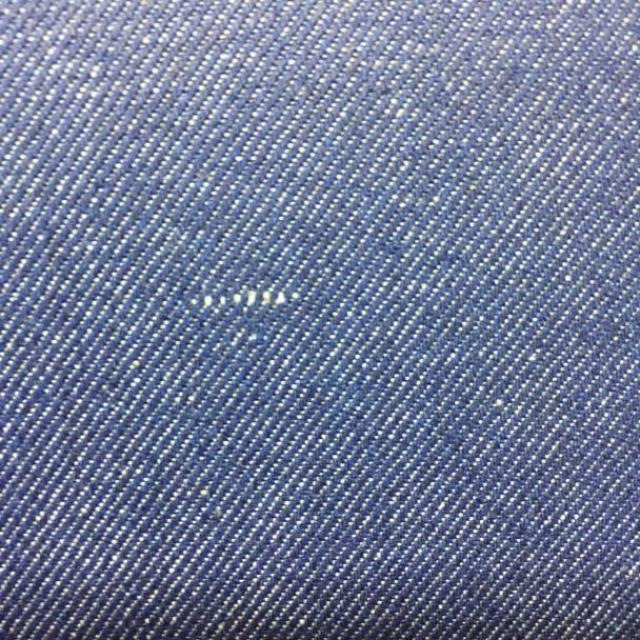Knot: (191, 289, 300, 308)
